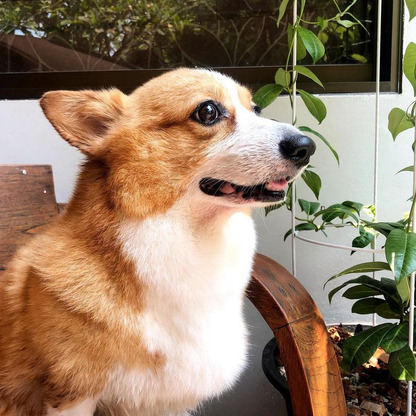Corgi: (30, 55, 319, 381)
